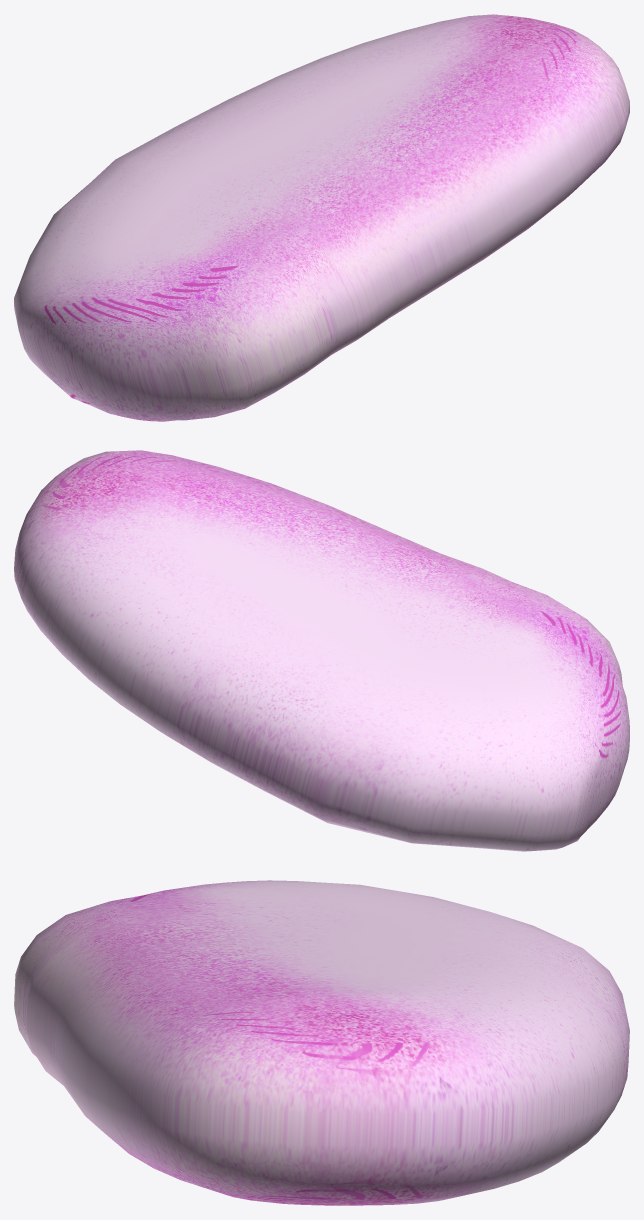
File: Cloud_Maru_B.obj
The picture shows the model from 3 angles, top to bottom: view 1: azimuth 30°, elevation 25°; view 2: azimuth 150°, elevation 25°; view 3: azimuth 270°, elevation 25°; orthographic projection. The views are drawn at different scales.
Visible parts, largest first — view 1: Cloud_Maru_B; view 2: Cloud_Maru_B; view 3: Cloud_Maru_B.
Part boxes in pixels (<box>): Cloud_Maru_B: <box>14,14,629,421</box>; Cloud_Maru_B: <box>14,450,629,851</box>; Cloud_Maru_B: <box>14,880,629,1205</box>.
Size of the model in its own units: 0.6799 by 0.2936 by 0.4476.
1 material, 1 textured.
